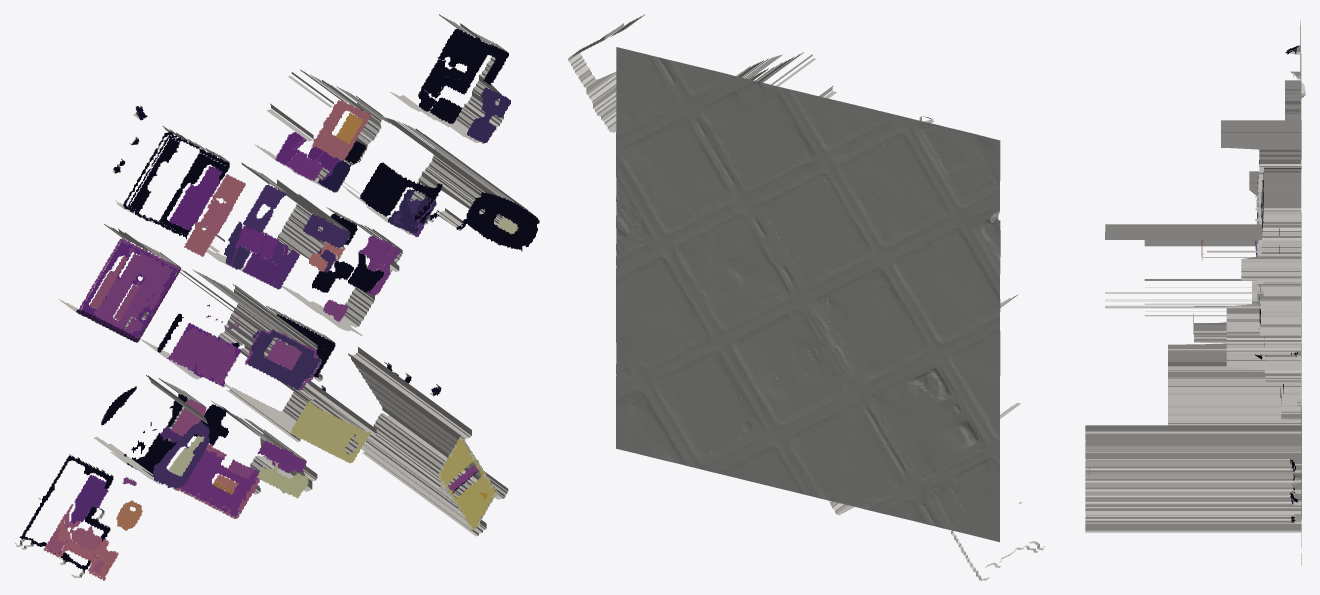
File: block.glb
The picture shows the model from 3 angles, left to right: view 1: azimuth 30°, elevation 25°; view 2: azimuth 150°, elevation 25°; view 3: azimuth 270°, elevation 25°; orthographic projection. The views are drawn at different scales.
Visible parts, largest first — view 1: geometry_1; view 2: geometry_0, geometry_1; view 3: geometry_1, geometry_0.
Boxes of the visible parts, <box> form: geometry_1: <box>14,14,539,580</box>; geometry_0: <box>616,47,1000,542</box>; geometry_1: <box>568,14,1044,580</box>; geometry_1: <box>1085,45,1301,532</box>; geometry_0: <box>1300,20,1305,565</box>.
Bounding box in the file's own units: 495 × 464 × 207.
